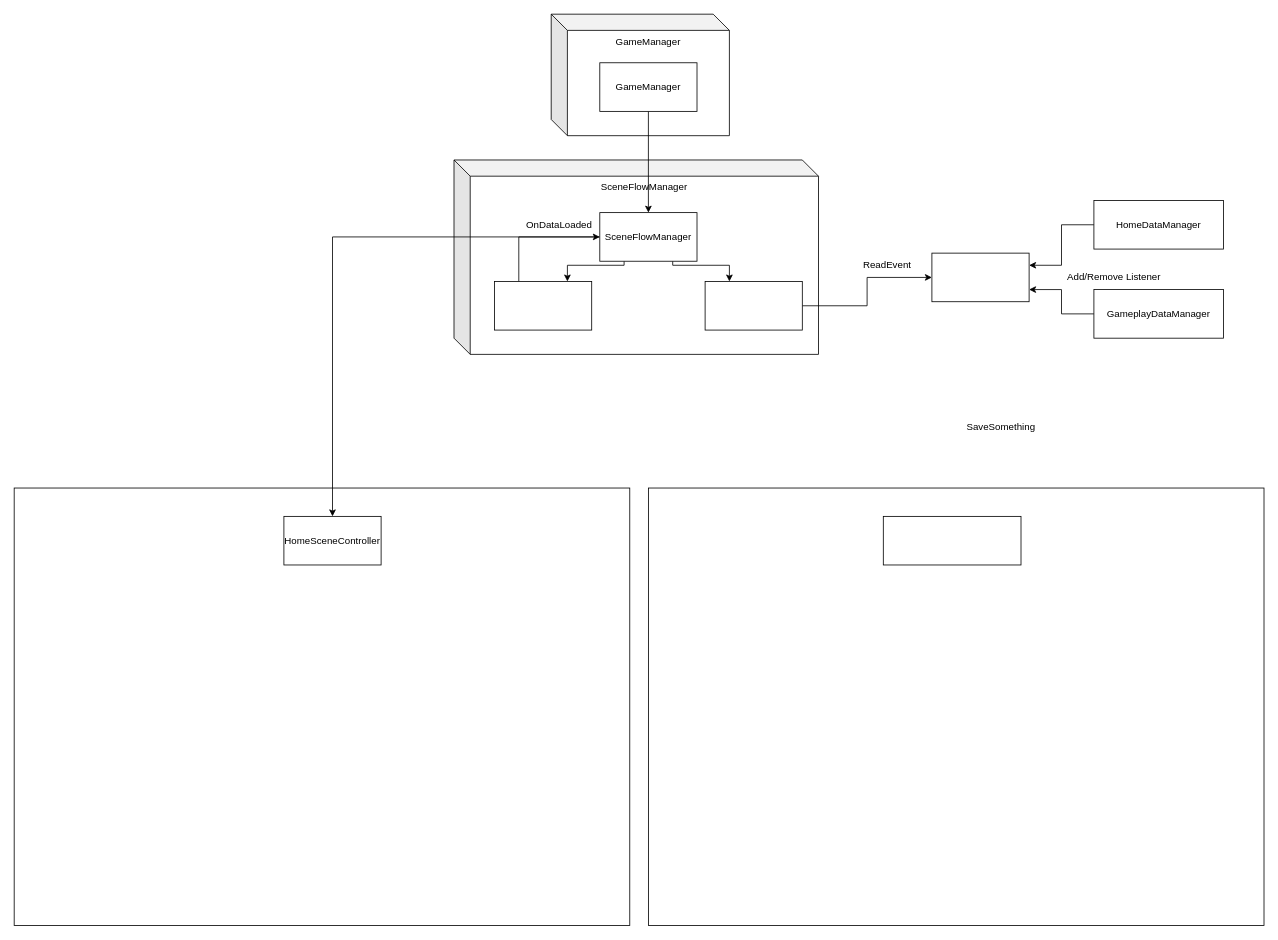
Some shapes in this 1278 by 940 pixel diagram are drawn without their labels. The shapes that lost their labels are listed below. From the top down, each one's box as (x1, y1, x2, y2) in pixels, then its label:
(931, 252, 1029, 302): DataManager
(494, 281, 592, 330): HomeInitializable
(704, 281, 802, 330): GameplayInitializable
(882, 516, 1021, 565): GameplaySceneController
